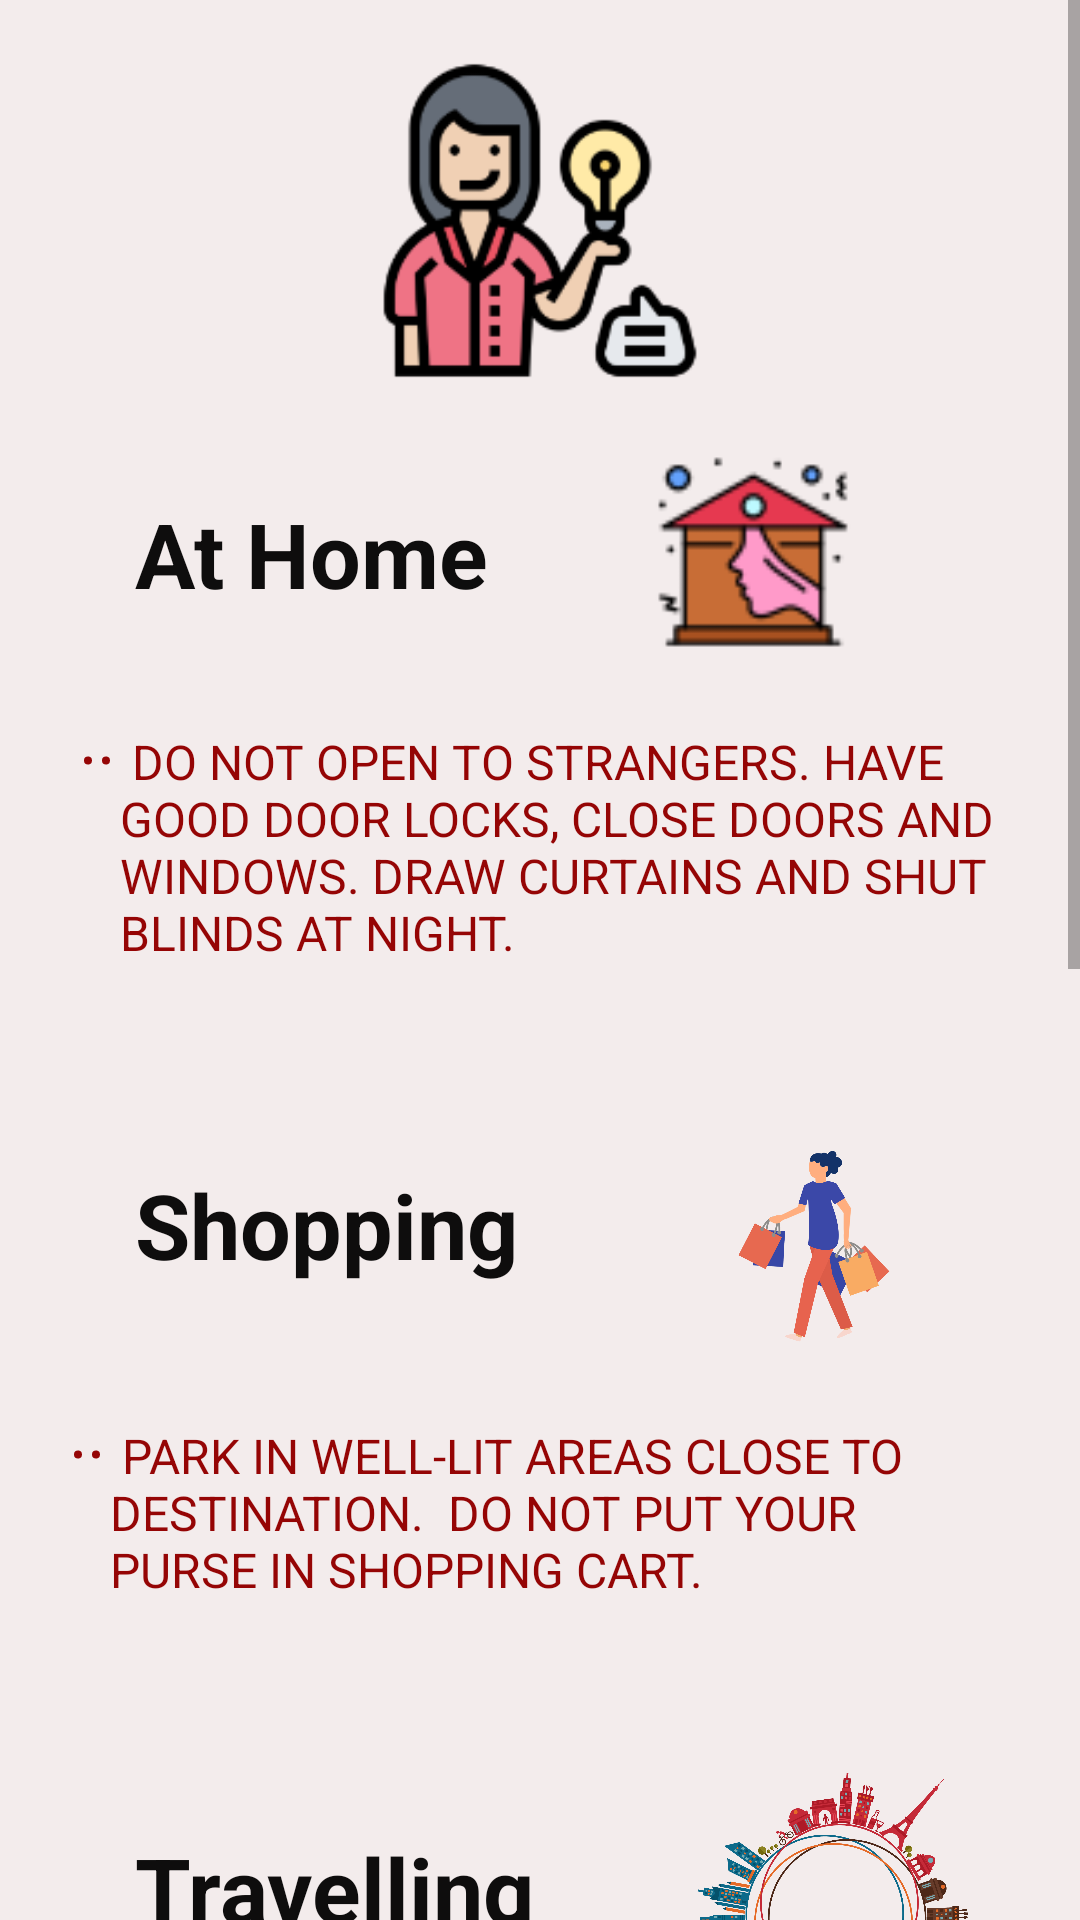

Screen size 1080×1920. Icon name, then its box in pixels as (x1, y1, x2, y2):
tips: (383, 64, 697, 377)
